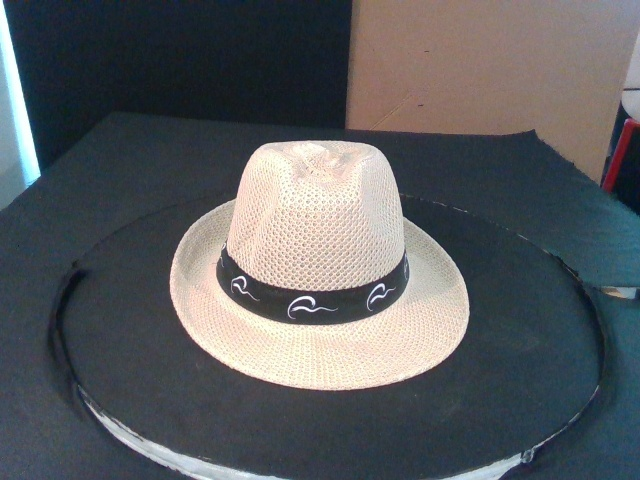hat: (168, 140, 471, 391)
